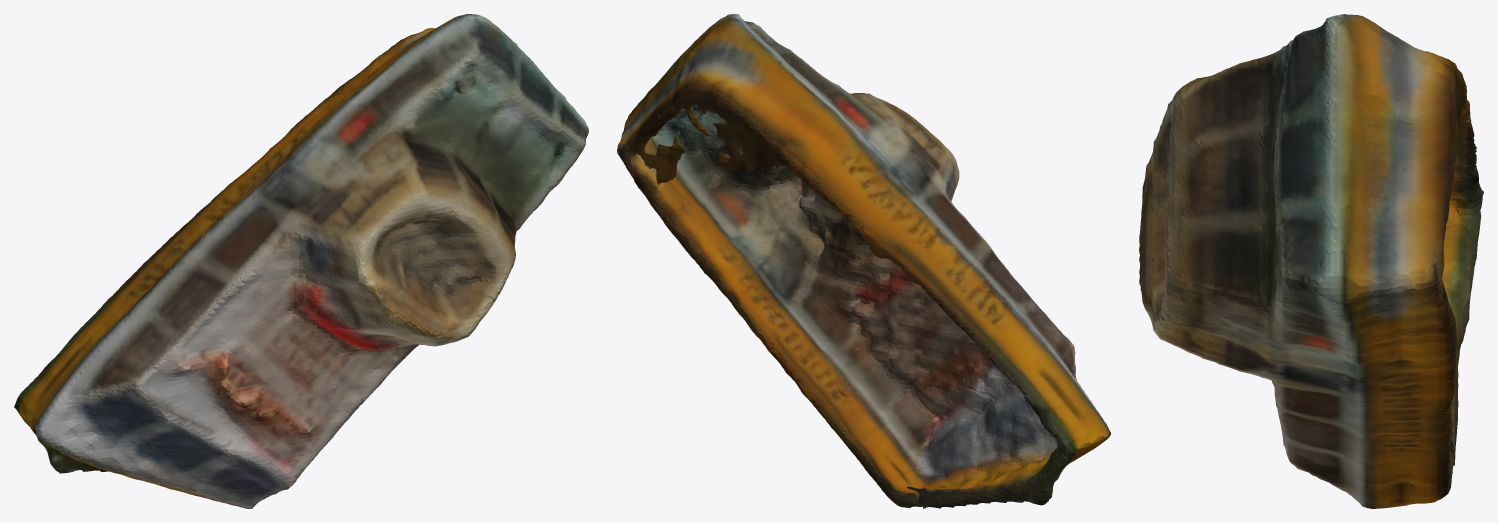
File: mesh_scaled_rotated_gscoord.obj
3 renders of one model, left to right at view 1: azimuth 30°, elevation 25°; view 2: azimuth 150°, elevation 25°; view 3: azimuth 270°, elevation 25°, orthographic. The views are drawn at different scales.
Size of the model in its own units: 0.3935 by 0.32 by 0.1566.
